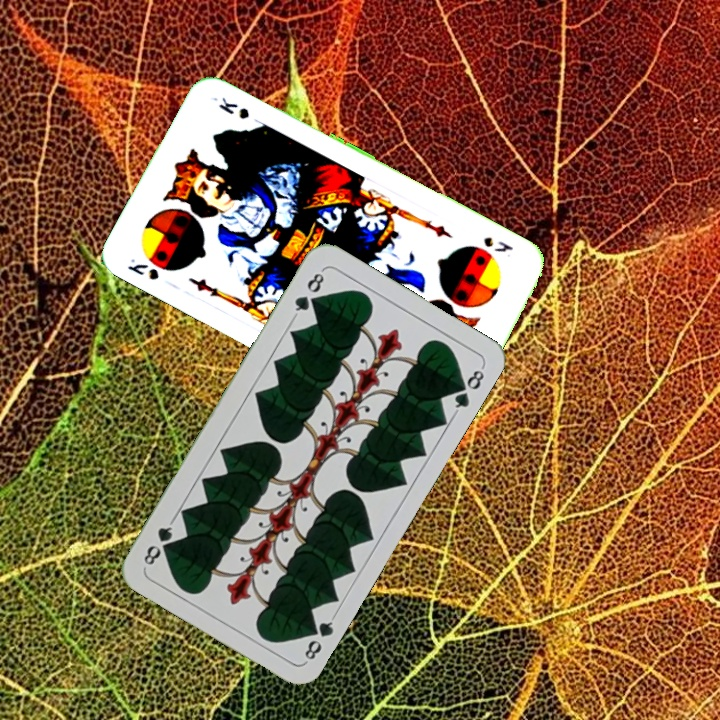G8: (299, 611, 338, 665), (290, 266, 327, 319)
SK: (123, 254, 162, 283), (479, 232, 516, 255)
